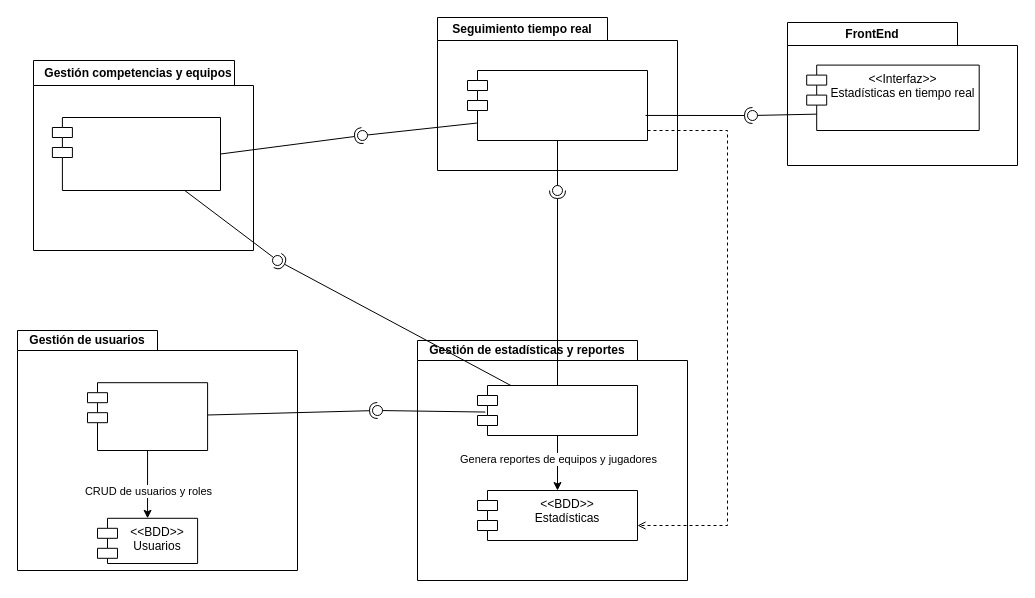
Image size: 1035x598. Some labels were removed from this diagram. Here are the shapes that lost their labels. From the top down, the centre of each, then its label:
At (557,105): "<<API REST>> Seguimiento en tiempo real".
At (135,153): "<<API REST>> Gestión de competencias y equipos".
At (147,416): "<<API REST>> Administración de usuarios".
At (557,410): "<<API REST>> Estadísticas y reportes".
